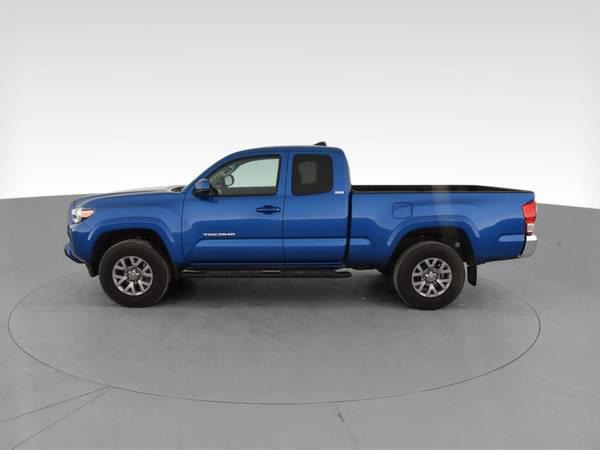Front_Bumper: (65, 223, 97, 271)
Front_Fender: (84, 192, 184, 266)
Front_Left_Door: (179, 196, 285, 269)
Front_Left_Window: (183, 147, 288, 197)
Hood: (73, 185, 181, 206)
Left_Headlight: (65, 207, 96, 225)
Left_Taillight: (521, 196, 536, 237)
Rear_Bumper: (522, 234, 539, 256)
Rear_Fender: (346, 192, 532, 269)
Rear_Left_Door: (282, 192, 348, 268)
Rear_Left_Window: (284, 145, 351, 194)
Wheel: (99, 238, 171, 307), (395, 240, 467, 308)
